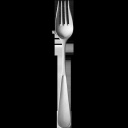fork: (49, 4, 81, 127)
